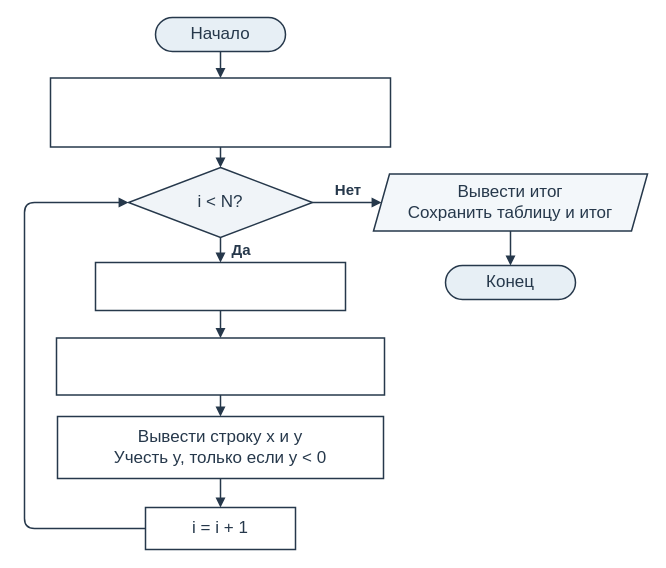
This 666x568 diagram has some shape labels left out. Here are the shapes that lost their labels. From the top down, the centre of each, then its label:
At pixel 220 112: "Задать a, b, h и i = 0 Вычислить количество точек N".
At pixel 220 286: "Вычислить x = a + i · h".
At pixel 220 366: "Вычислить y по формуле варианта".
